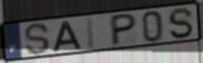0: (141, 9, 164, 43)
A: (52, 20, 83, 53)
I: (85, 16, 97, 50)
P: (110, 12, 139, 48)
S: (166, 6, 195, 40), (23, 21, 51, 56)
